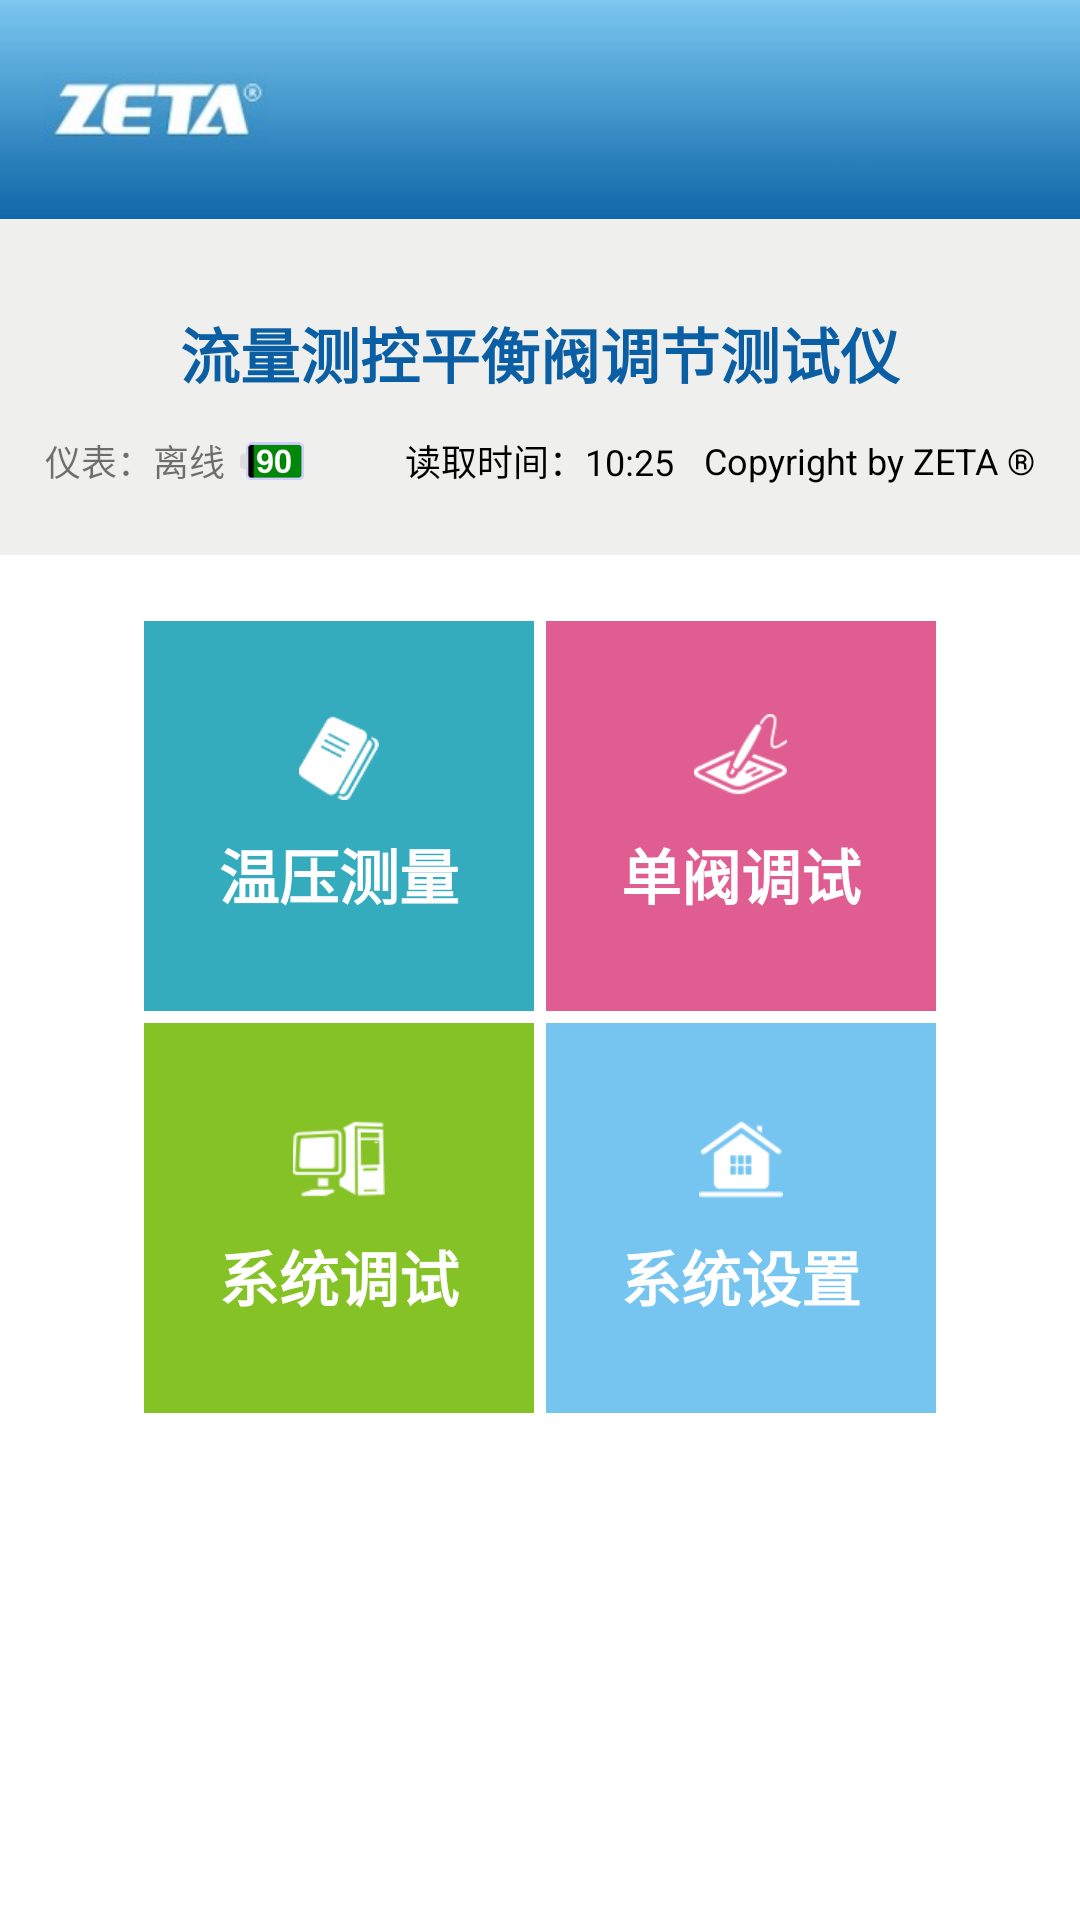

Point at icon controls on the screen. Image size 1080px x 1920px, points as (x,y).
battery: (275,461)
